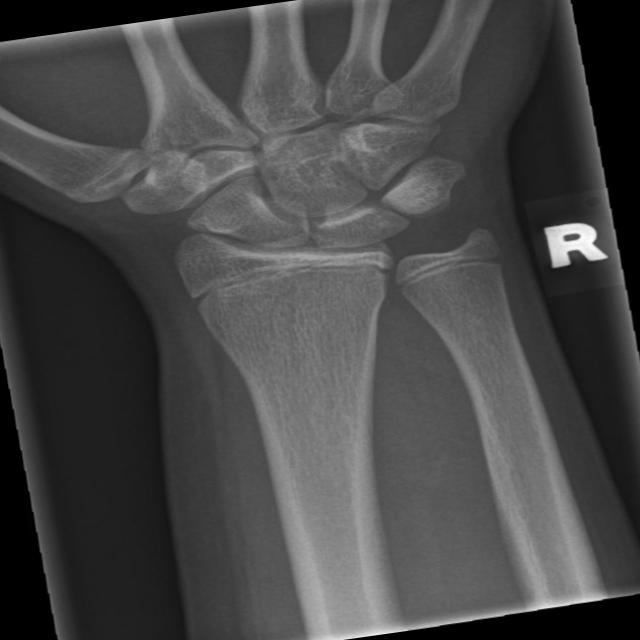fracture: (171, 235, 408, 324), (372, 239, 514, 300)
